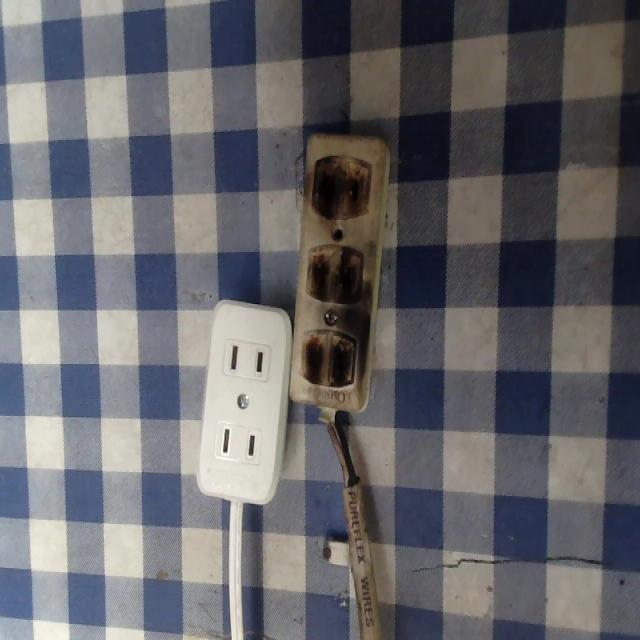-: (307, 152, 376, 219), (303, 240, 366, 307), (298, 325, 361, 392)
